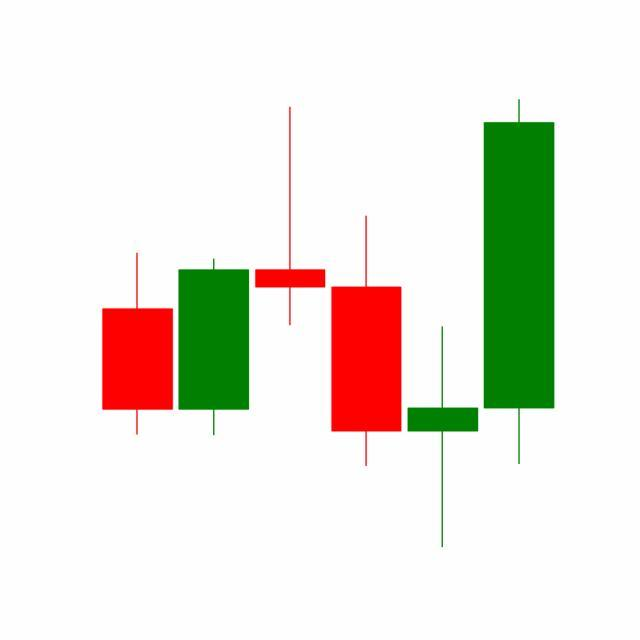Spinning Top: (404, 324, 482, 550)
